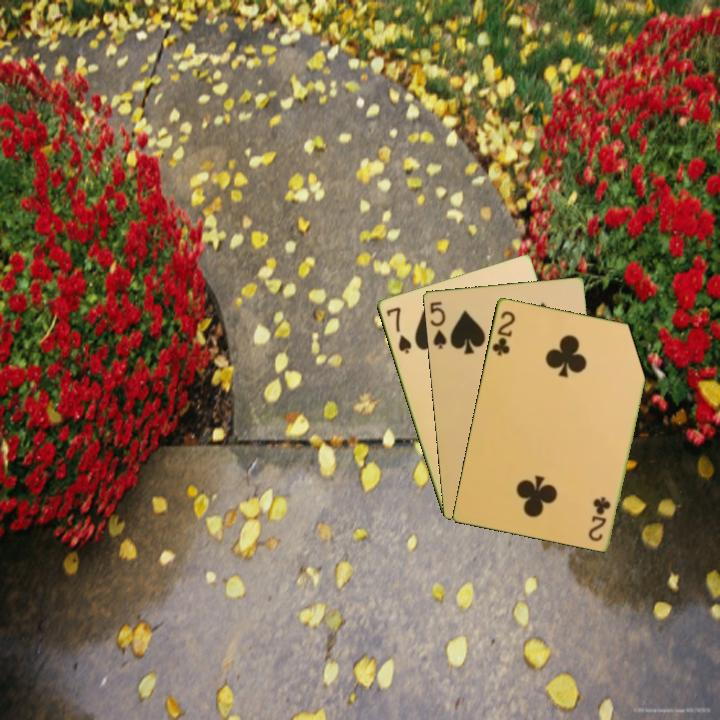2c: (488, 307, 518, 359), (586, 493, 613, 544)
5s: (426, 298, 449, 352)
7s: (382, 303, 414, 356)
